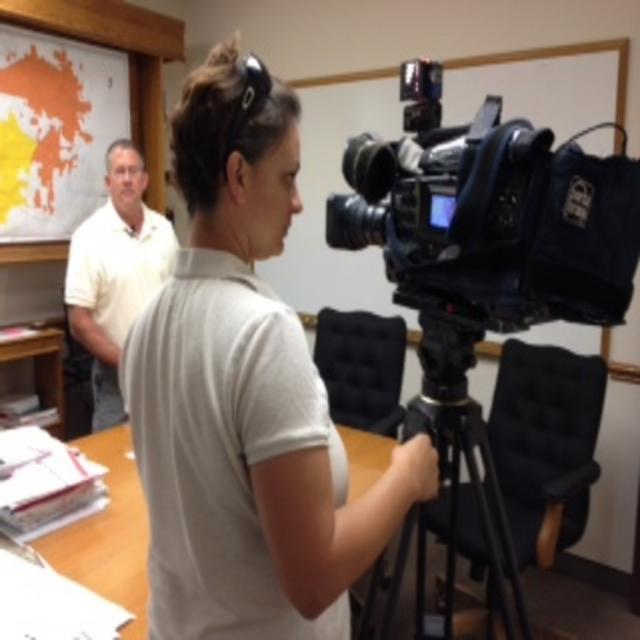chair: (434, 337, 608, 636), (313, 308, 408, 440)
desk: (24, 416, 402, 637)
person: (121, 43, 429, 635), (63, 140, 179, 434)
